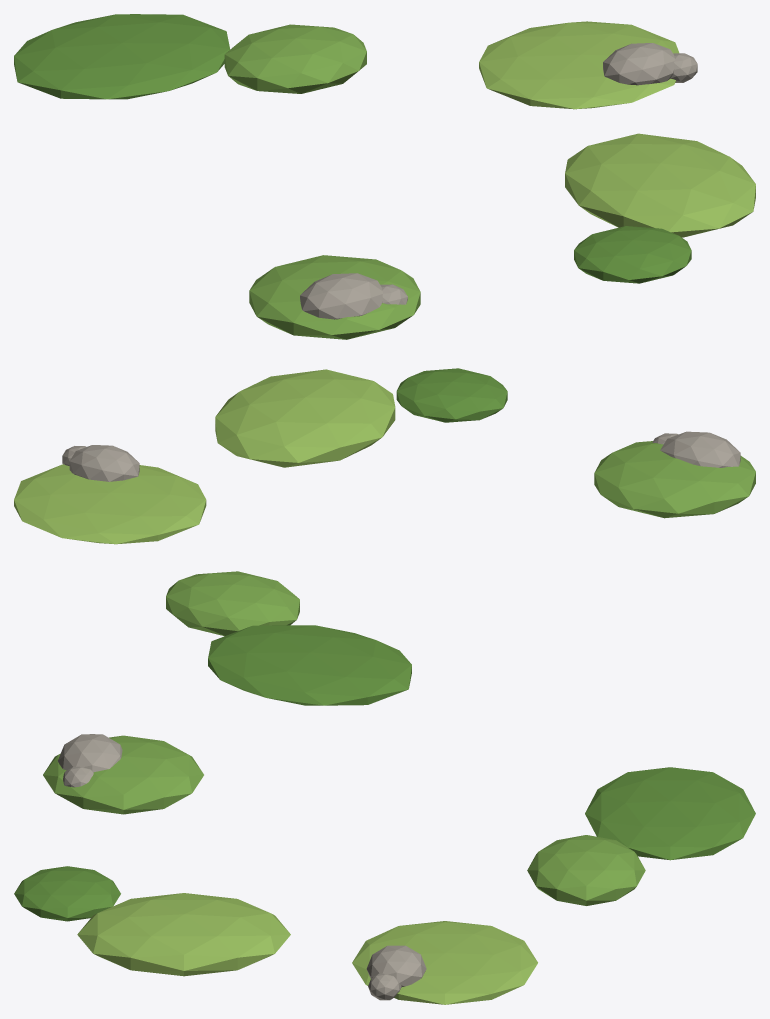
The model's file is Kir_cimen_kayalik_6.fbx.
3 views of the same model, one above another, from view 1: azimuth 30°, elevation 25°; view 2: azimuth 150°, elevation 25°; view 3: azimuth 270°, elevation 25° (orthographic). The views are drawn at different scales.
Visible parts, largest first — view 1: Kir_cimen_kayalik_6; view 2: Kir_cimen_kayalik_6; view 3: Kir_cimen_kayalik_6.
Part boxes in pixels (left/top/right/bottom): Kir_cimen_kayalik_6: left=14, top=14, right=755, bottom=339; Kir_cimen_kayalik_6: left=14, top=368, right=755, bottom=705; Kir_cimen_kayalik_6: left=14, top=734, right=755, bottom=1004.
Bounding box in the file's own units: 16.04 × 1.46 × 19.
